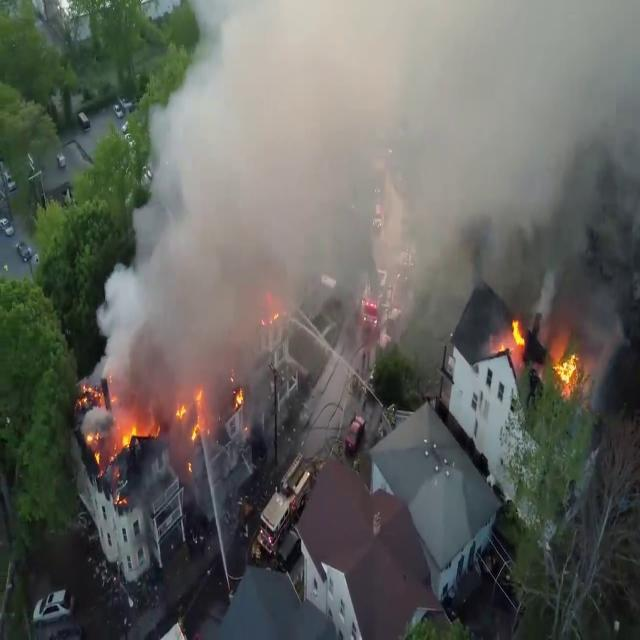Fire: (548, 332, 588, 402), (175, 383, 208, 448), (114, 412, 158, 457), (507, 309, 527, 359)
Smoke: (95, 0, 547, 422), (532, 1, 640, 336)
